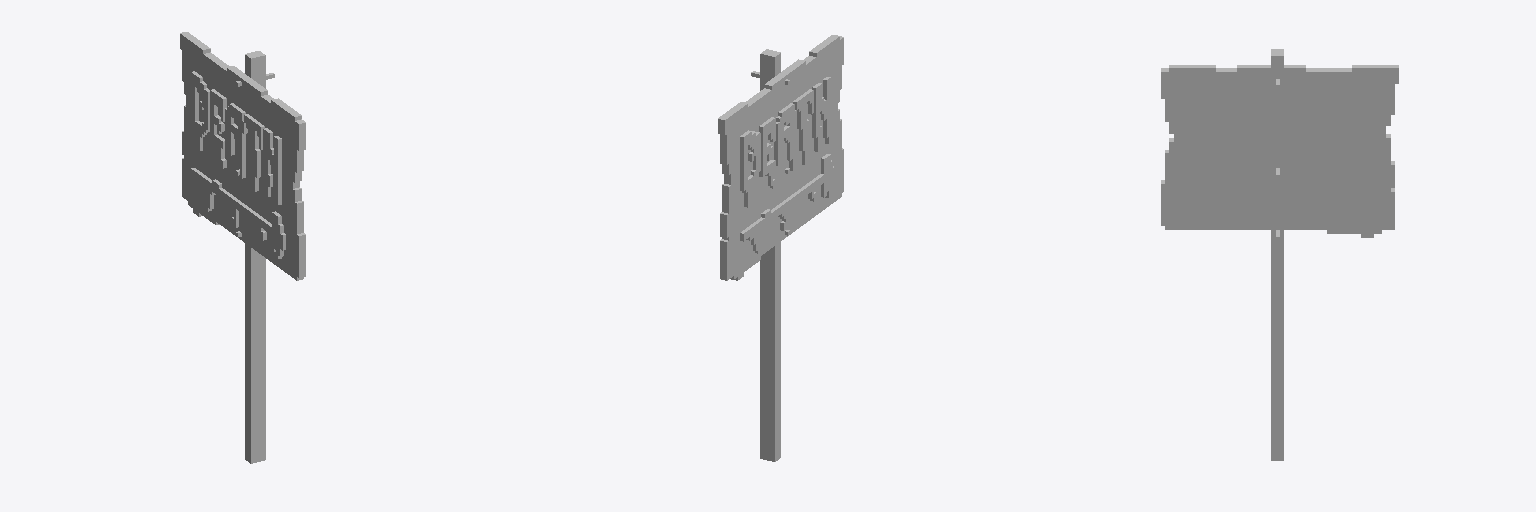
File: Horror_death_Sign.obj
3 views of the same model, side by side, from view 1: azimuth 30°, elevation 25°; view 2: azimuth 150°, elevation 25°; view 3: azimuth 270°, elevation 25° (orthographic).
Visible parts, largest first — view 1: default; view 2: default; view 3: default.
Boxes of the visible parts, <box> form: default: <box>180,32,305,463</box>; default: <box>718,35,843,461</box>; default: <box>1161,49,1398,460</box>.
Size of the model in its own units: 11 by 105 by 56.